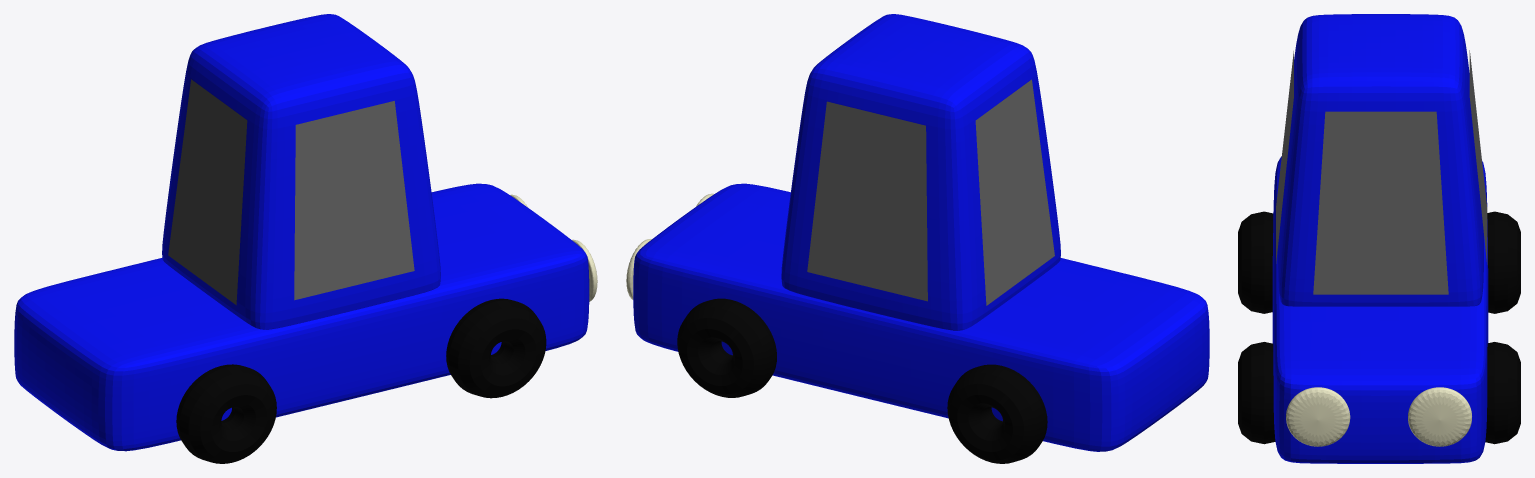
File: car.glb
3 renders of one model, left to right at view 1: azimuth 30°, elevation 25°; view 2: azimuth 150°, elevation 25°; view 3: azimuth 270°, elevation 25°, orthographic.
Visible parts, largest first — view 1: Iron, mirrors, Wheel; view 2: Iron, mirrors, Wheel; view 3: Iron, mirrors, Wheel, lights.
Part boxes in pixels (x1,y1,x2,y2): Iron: [14, 14, 589, 451]; mirrors: [168, 79, 414, 305]; Wheel: [176, 298, 546, 463]; Iron: [633, 14, 1209, 451]; mirrors: [807, 79, 1054, 305]; Wheel: [677, 298, 1047, 463]; Iron: [1272, 14, 1488, 463]; mirrors: [1276, 50, 1487, 294]; Wheel: [1238, 211, 1520, 444]; lights: [1286, 387, 1471, 446].
Bounding box in the file's own units: 8.43 × 5.39 × 4.18.
